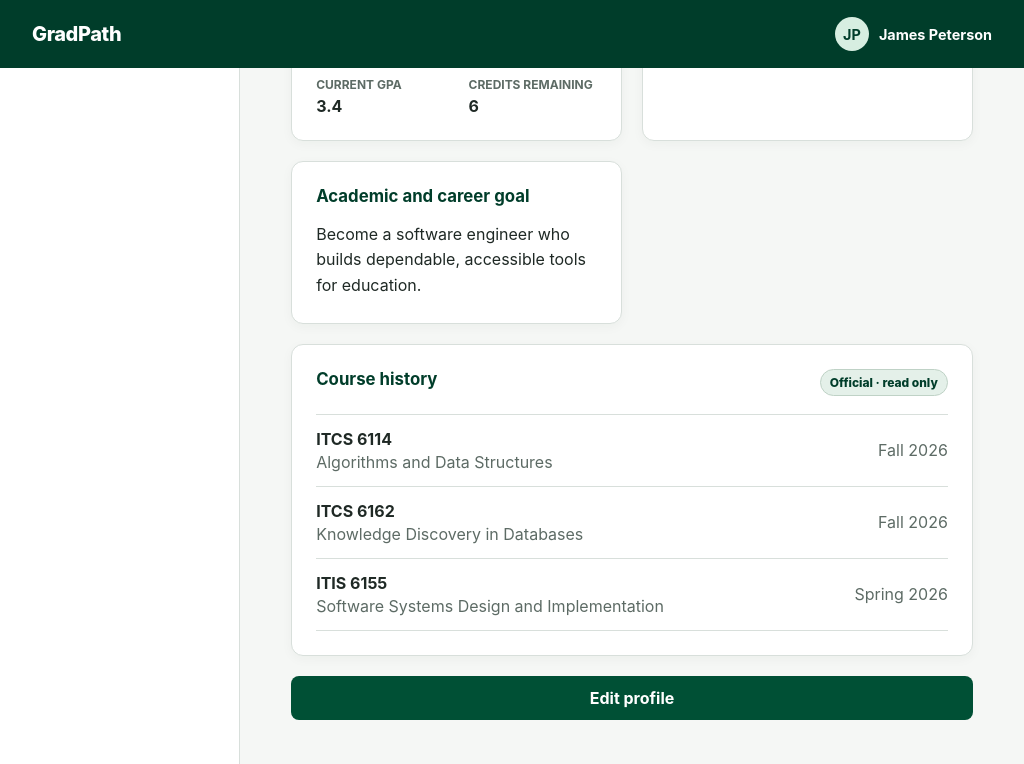
Scenario: GradPath application shell › cancels editing without changing the saved profile
(page scrolled)
Click the button "Edit profile".
click(632, 698)  # box [291,676,973,720]
(page scrolled)
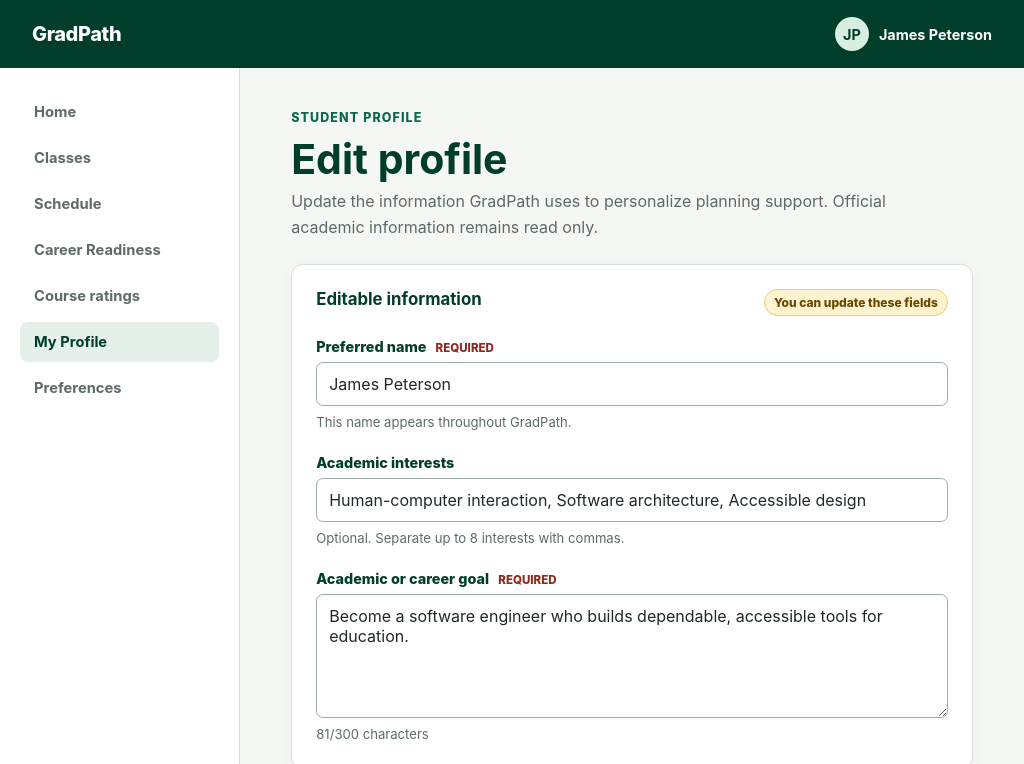
Replace the text in the field labelled "Preferred name Required" with "Unsaved Name" at (632, 384), box [316,362,948,406]
(page scrolled)
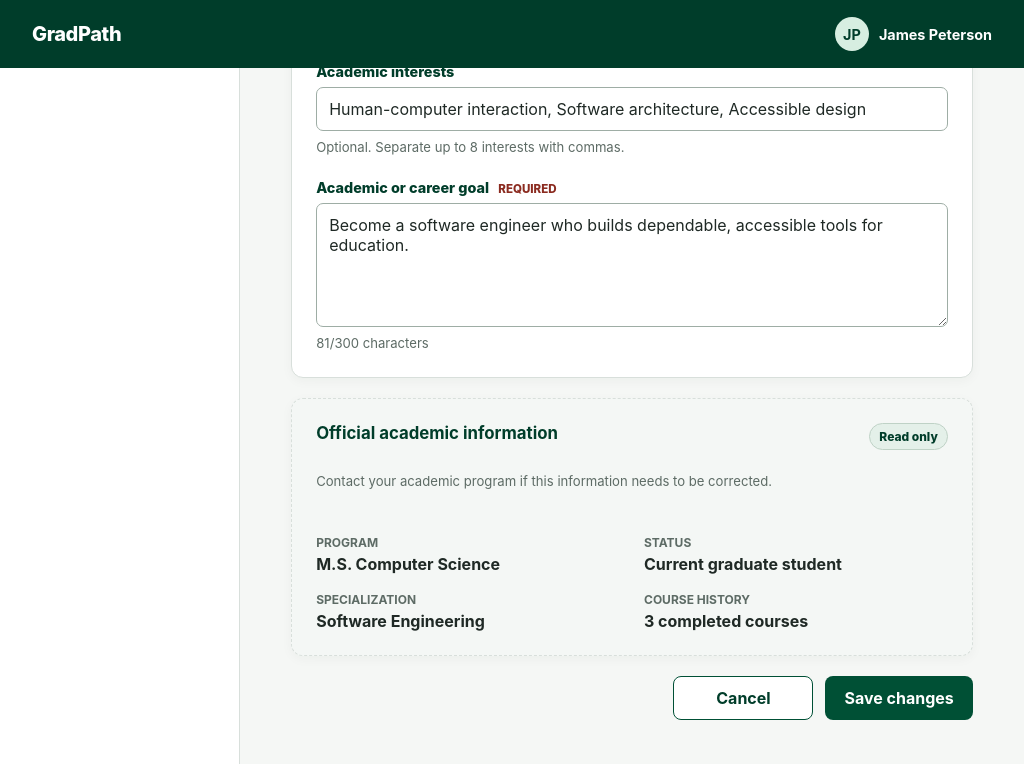
Click the button "Cancel".
click(744, 698)  # box [674,676,814,720]
(page scrolled)
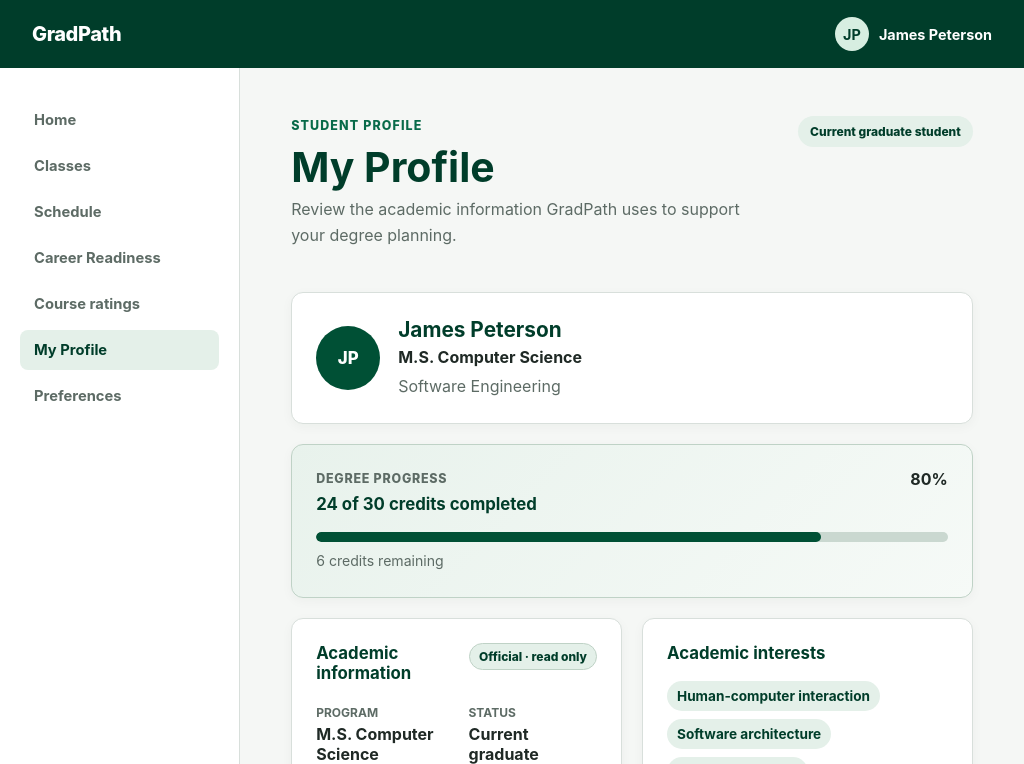
Check: the text "Unsaved Name" is not shown
Check: the heading "James Peterson" is shown, box [398,317,582,342]
